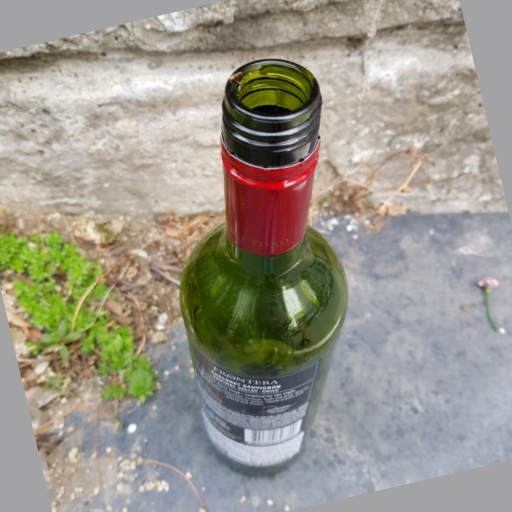Glass_2: (180, 60, 349, 480)
